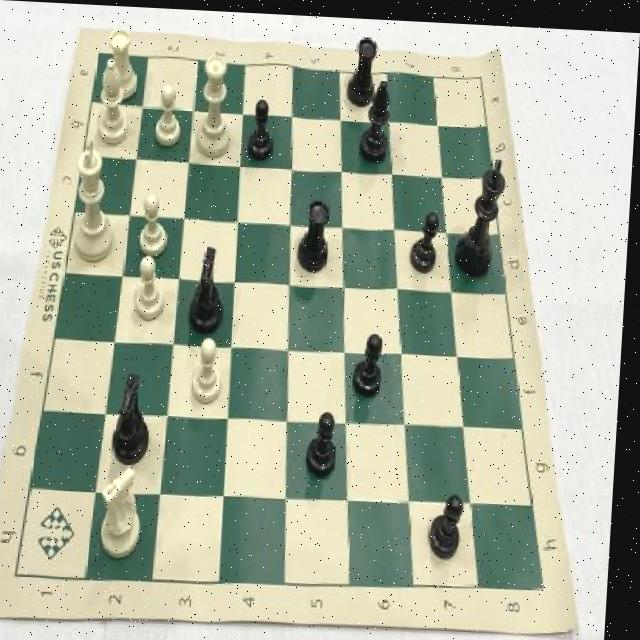bishop: (359, 69, 397, 163)
black-bishop: (454, 148, 513, 276)
black-king: (112, 365, 162, 468), (188, 239, 235, 336)
black-knight: (430, 486, 473, 563), (306, 401, 347, 481), (410, 202, 448, 276), (355, 323, 391, 398), (245, 92, 279, 165)
black-queen: (297, 193, 337, 276), (345, 23, 382, 107)
black-rook: (92, 47, 138, 150)
white-bishop: (69, 136, 128, 267)
white-king: (99, 461, 156, 562)
white-knight: (190, 332, 231, 408), (134, 249, 175, 323), (137, 188, 175, 262), (152, 79, 188, 149)
white-pawn: (196, 44, 242, 164)
white-queen: (104, 21, 143, 102)
